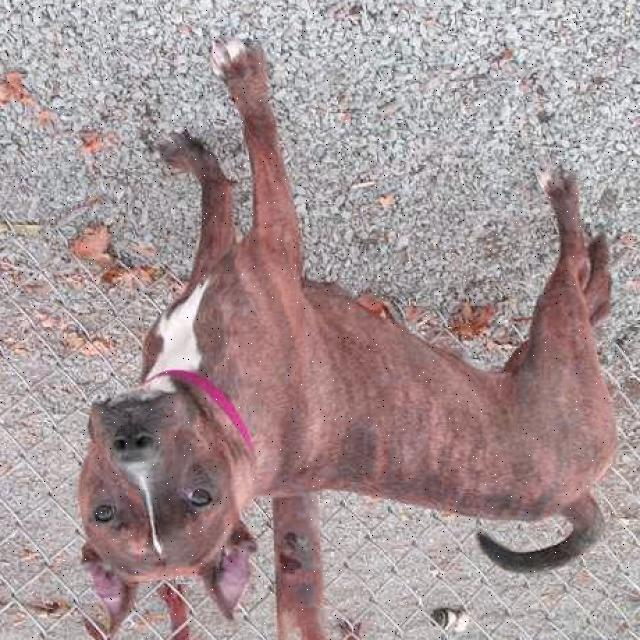Dog: (59, 373, 270, 632)
